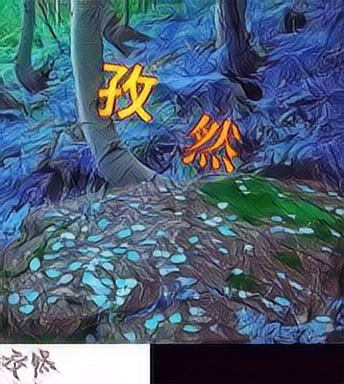C8BB: (180, 108, 243, 174)
D7CE: (95, 55, 158, 121)
